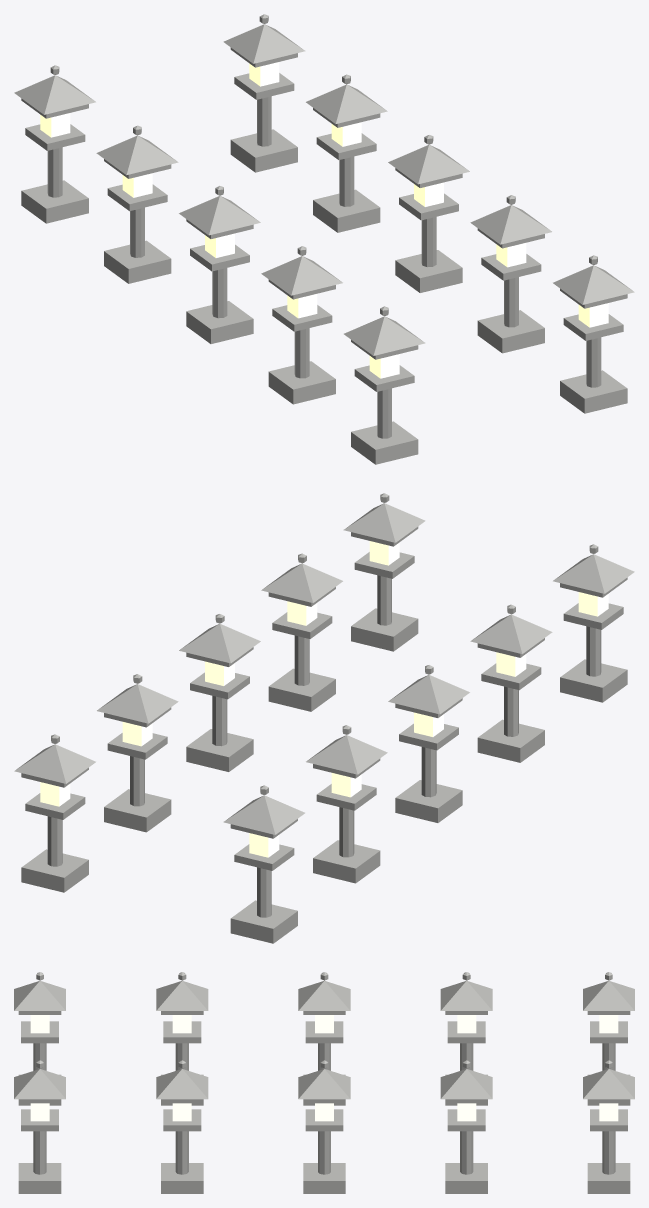
Rendered from akagi_stone_lantern_row.glb.
3 views of the same model, one above another, from view 1: azimuth 30°, elevation 25°; view 2: azimuth 150°, elevation 25°; view 3: azimuth 270°, elevation 25° (orthographic). The views are drawn at different scales.
Visible parts, largest first — view 1: akagi_stone_lantern_row; view 2: akagi_stone_lantern_row; view 3: akagi_stone_lantern_row.
Boxes of the visible parts, box(x1,y1,x2,y2) form: akagi_stone_lantern_row: box(14, 14, 634, 464); akagi_stone_lantern_row: box(14, 493, 634, 943); akagi_stone_lantern_row: box(14, 972, 634, 1193).
Size of the model in its own units: 5.5 by 2.9 by 13.1.
